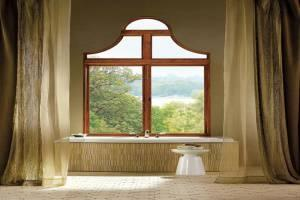window: (83, 17, 208, 133)
